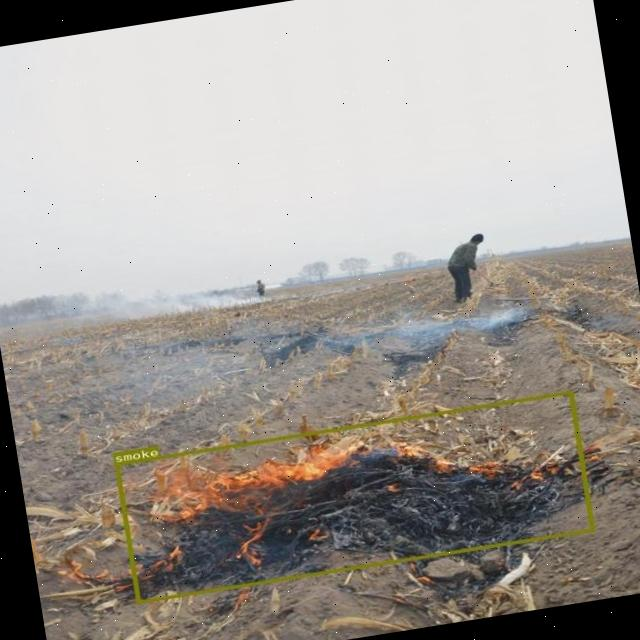smoke: (113, 391, 594, 604)
